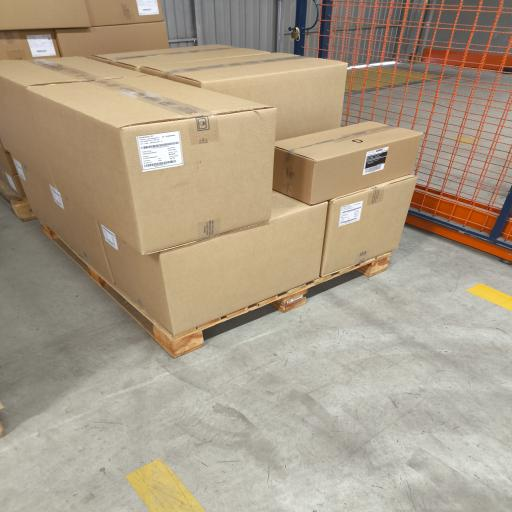pallet: (42, 224, 391, 357), (0, 192, 37, 221), (0, 421, 5, 437)
